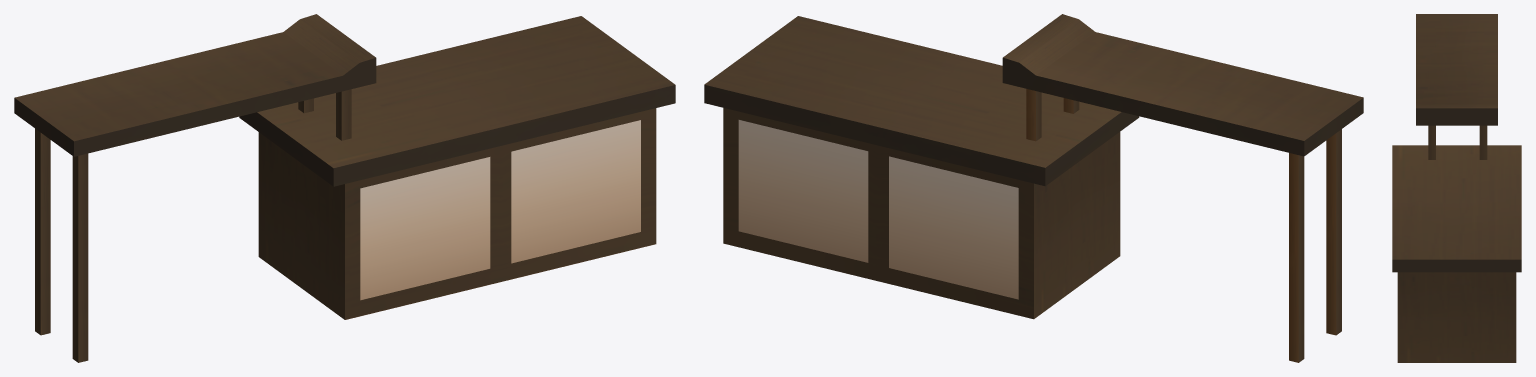
Rendered from SK_Furniture_002.FBX.
The picture shows the model from 3 angles, left to right: view 1: azimuth 30°, elevation 25°; view 2: azimuth 150°, elevation 25°; view 3: azimuth 270°, elevation 25°; orthographic projection. The views are drawn at different scales.
Parts seen in each view (by area): view 1: SK_Furniture_002, white; view 2: SK_Furniture_002, white; view 3: SK_Furniture_002.
Boxes of the visible parts, bbox=[...] form: SK_Furniture_002: bbox=[14, 14, 675, 362]; white: bbox=[360, 120, 640, 300]; SK_Furniture_002: bbox=[704, 14, 1363, 362]; white: bbox=[738, 120, 1018, 299]; SK_Furniture_002: bbox=[1392, 14, 1521, 362].
Size of the model in its own units: 155 by 61.39 by 43.35.
